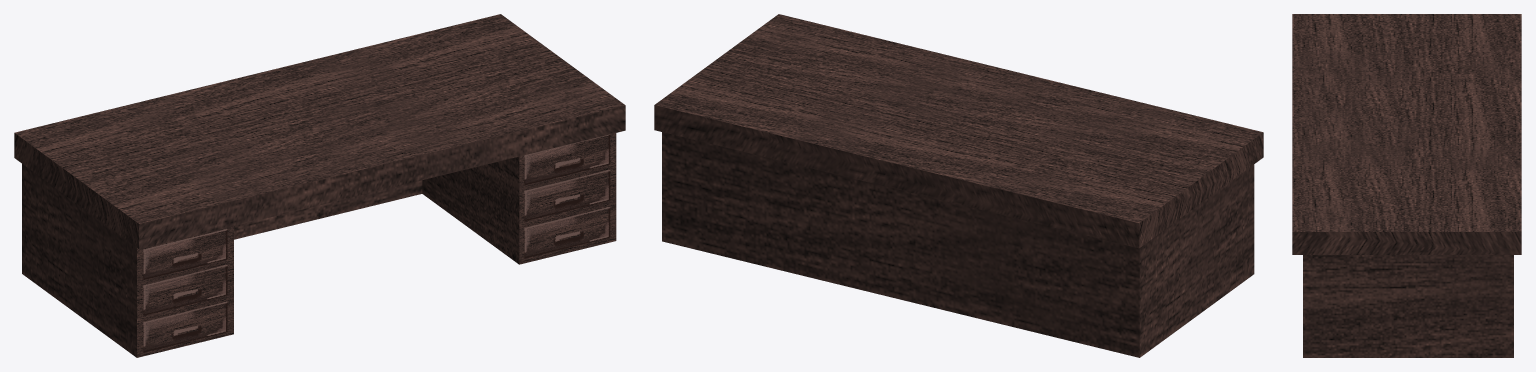
Rendered from ceo desk.fbx.
The picture shows the model from 3 angles, left to right: view 1: azimuth 30°, elevation 25°; view 2: azimuth 150°, elevation 25°; view 3: azimuth 270°, elevation 25°; orthographic projection. The views are drawn at different scales.
Parts seen in each view (by area): view 1: ceo desk; view 2: ceo desk; view 3: ceo desk.
Boxes of the visible parts, box(x1,y1,x2,y2) form: ceo desk: box(14, 14, 625, 357); ceo desk: box(654, 14, 1263, 357); ceo desk: box(1292, 14, 1521, 357).
Size of the model in its own units: 489 by 134 by 217.
